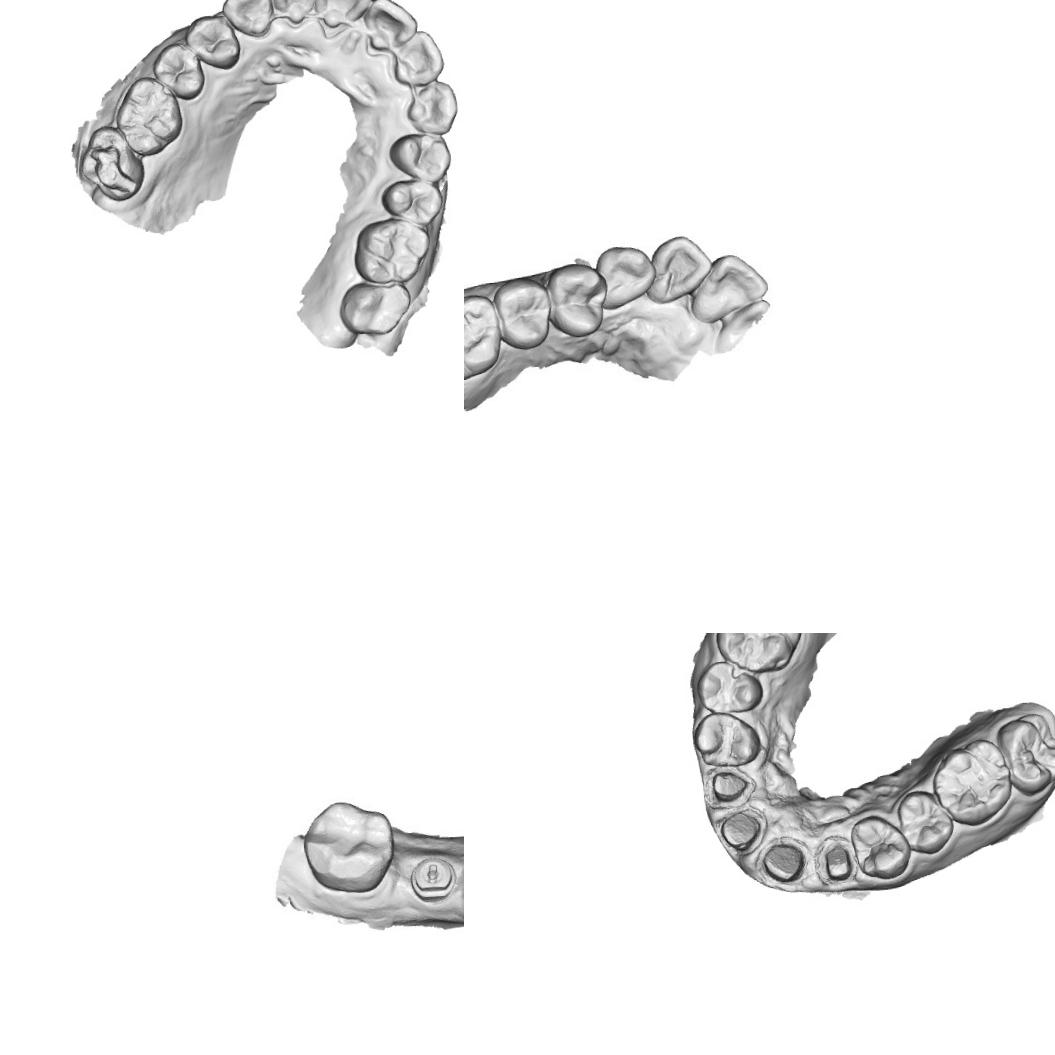canine: (596, 242, 655, 312), (402, 77, 460, 137), (216, 0, 274, 40)
crown: (750, 830, 813, 892), (710, 799, 770, 857), (810, 832, 860, 891), (700, 763, 757, 810)
implant_minus: (404, 842, 462, 912)
incisor: (692, 248, 774, 328), (649, 232, 708, 304), (388, 28, 446, 88), (360, 0, 420, 53), (310, 0, 376, 37), (267, 0, 323, 26)
inlay: (86, 141, 139, 199)
molar: (297, 791, 393, 890), (927, 734, 1014, 829), (110, 73, 186, 158), (350, 214, 433, 286), (994, 709, 1055, 800), (336, 279, 413, 338), (711, 633, 806, 676), (464, 292, 506, 384)
premolar: (847, 810, 914, 882), (549, 261, 607, 342), (689, 707, 763, 768), (494, 276, 554, 348), (894, 787, 956, 856), (693, 656, 765, 715), (384, 129, 454, 185), (182, 11, 242, 73), (150, 38, 206, 102), (379, 176, 446, 229)
